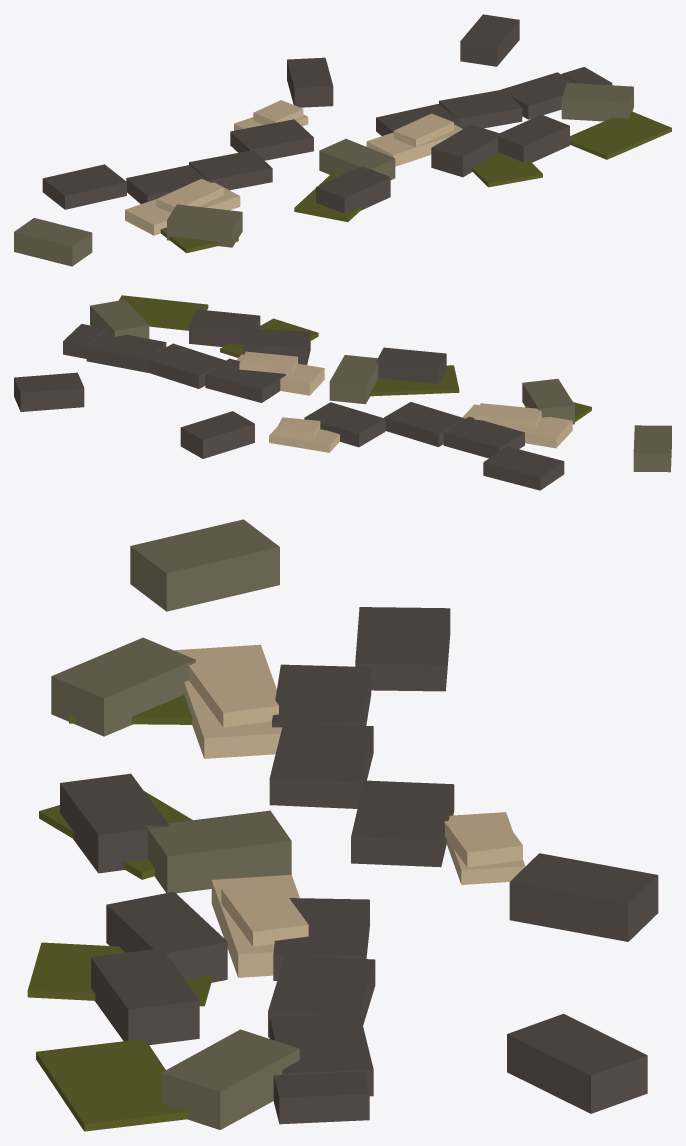
The model's file is SM_MuroSacos_v4_Red_e3_Brecha_LOD1.fbx.
3 views of the same model, one above another, from view 1: azimuth 30°, elevation 25°; view 2: azimuth 150°, elevation 25°; view 3: azimuth 270°, elevation 25° (orthographic). The views are drawn at different scales.
Parts seen in each view (by area): view 1: SM_bloques.muro_sacos_estados_v19_LOD1; view 2: SM_bloques.muro_sacos_estados_v19_LOD1; view 3: SM_bloques.muro_sacos_estados_v19_LOD1.
Boxes of the visible parts, <box> form: SM_bloques.muro_sacos_estados_v19_LOD1: <box>14,14,671,266</box>; SM_bloques.muro_sacos_estados_v19_LOD1: <box>14,295,671,490</box>; SM_bloques.muro_sacos_estados_v19_LOD1: <box>27,519,658,1131</box>.
Bounding box in the file's own units: 8.39 × 0.26 × 3.89.
